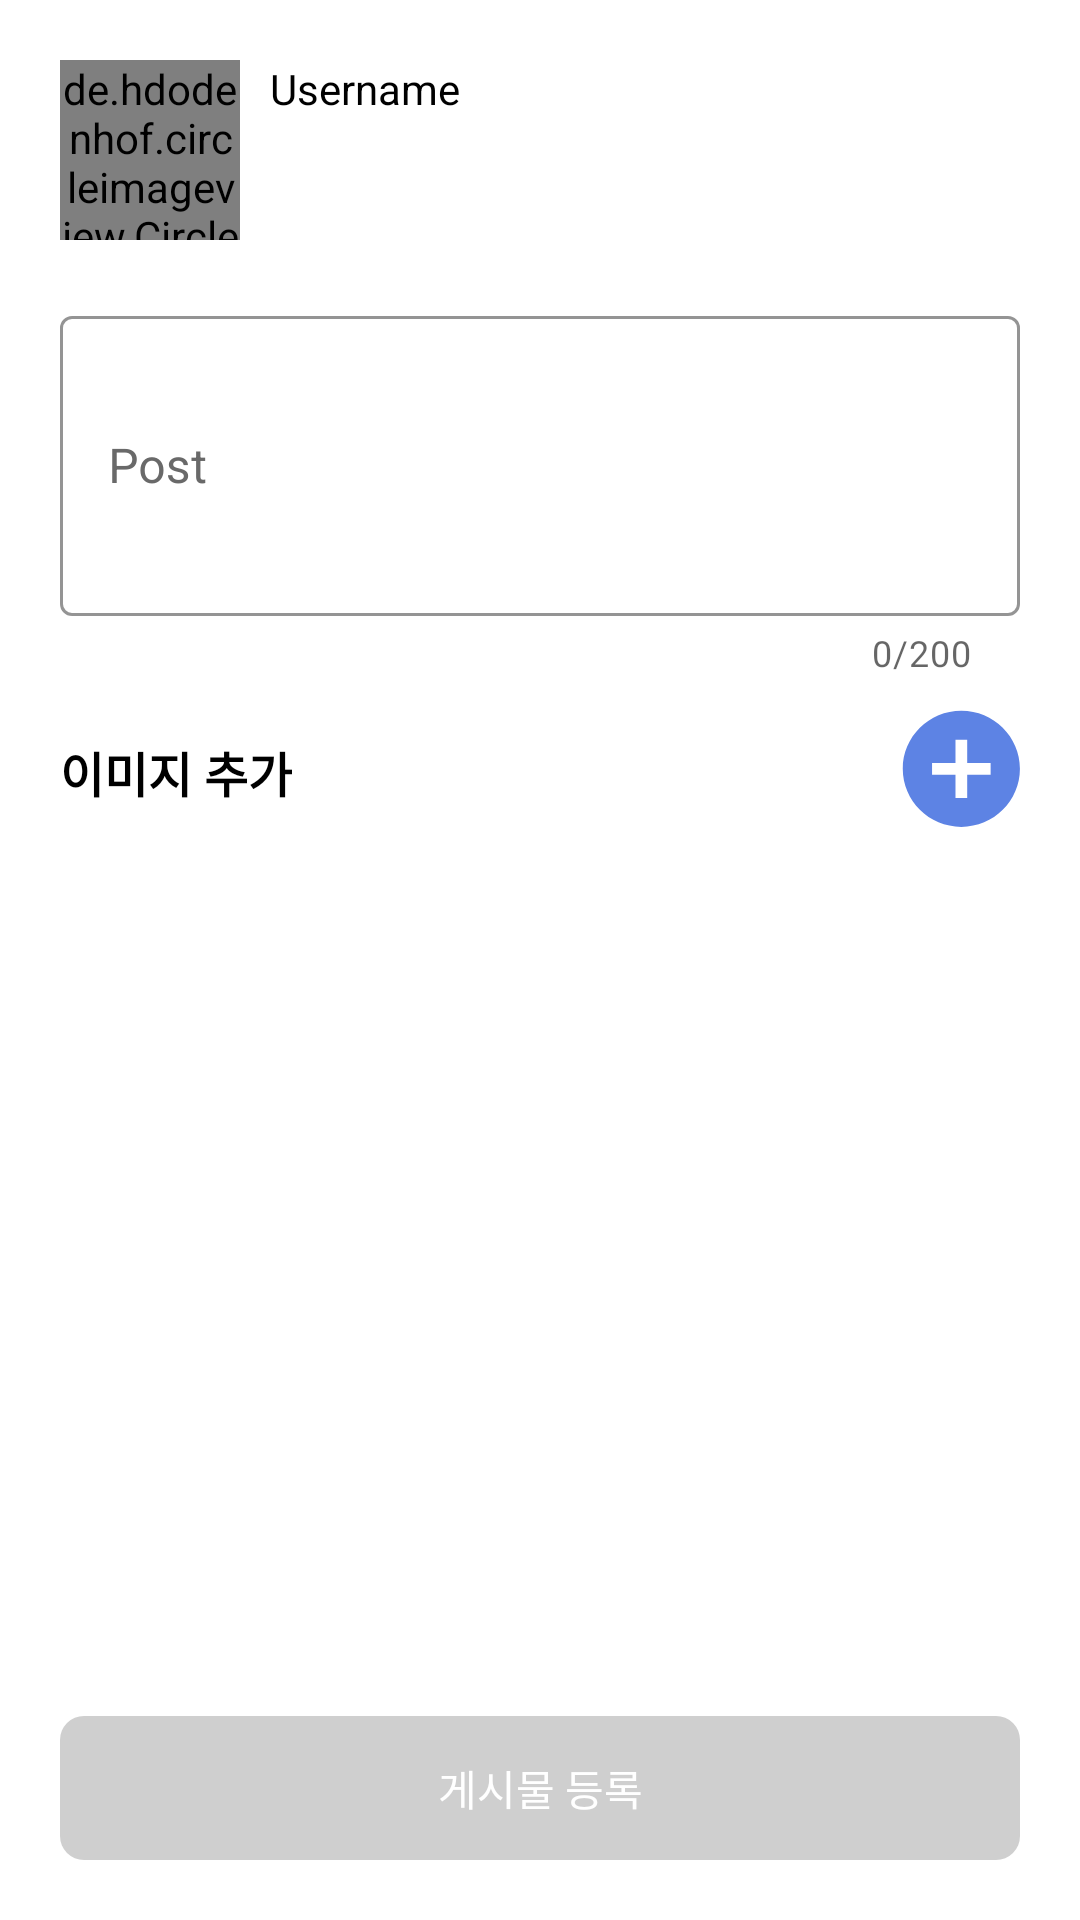

Icons on this 1080x1920 Android screen, each with the point to tap as [x,y]:
add: [961,768]
